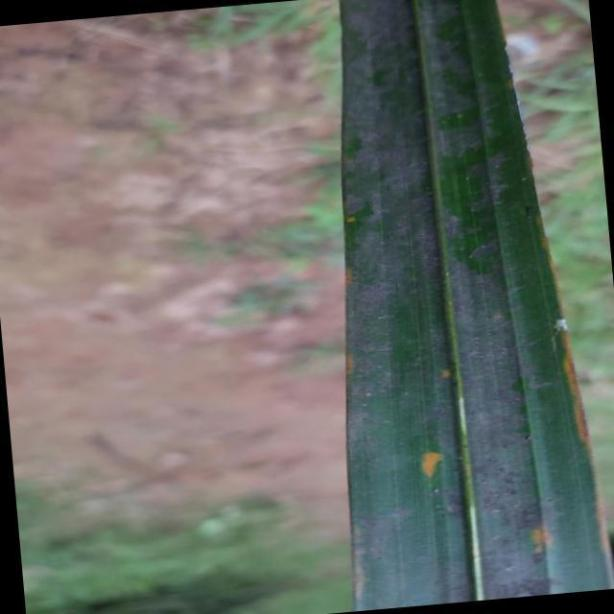Kalium: (340, 0, 614, 610)
